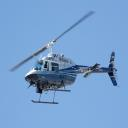helicopter: (9, 12, 121, 109)
